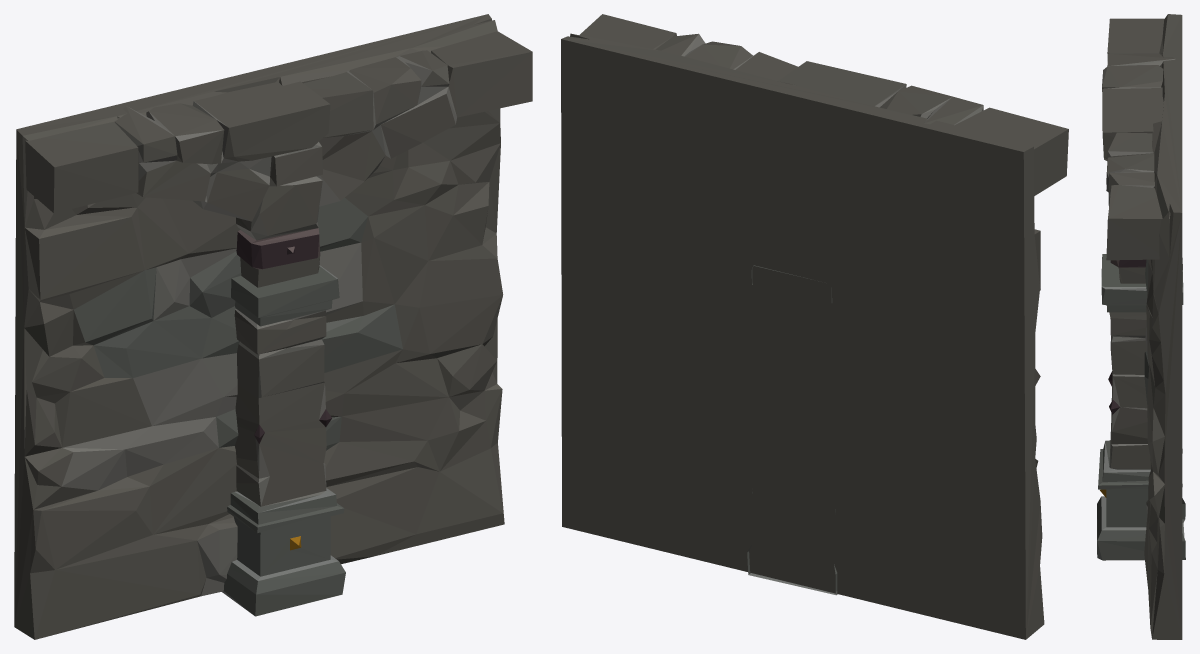
File: MDungeons_Wals_Arched_04.FBX
3 renders of one model, left to right at view 1: azimuth 30°, elevation 25°; view 2: azimuth 150°, elevation 25°; view 3: azimuth 270°, elevation 25°, orthographic. The views are drawn at different scales.
Parts seen in each view (by area): view 1: MDungeons_Wals_Arched_04_LOD0; view 2: MDungeons_Wals_Arched_04_LOD0; view 3: MDungeons_Wals_Arched_04_LOD0.
Boxes of the visible parts, x1,y1,x2,y2 form: MDungeons_Wals_Arched_04_LOD0: [14, 14, 532, 639]; MDungeons_Wals_Arched_04_LOD0: [561, 14, 1068, 639]; MDungeons_Wals_Arched_04_LOD0: [1097, 14, 1185, 639].
Size of what is drawn, in the model's own units: 6.04 by 6.03 by 1.13.
